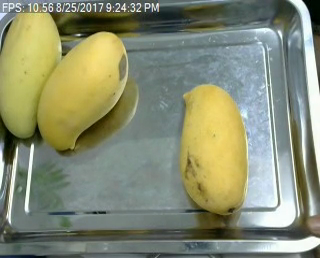Mango: (37, 31, 130, 150), (175, 83, 253, 215), (0, 2, 65, 137)
